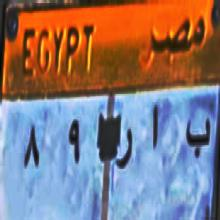8: (21, 119, 40, 175)
9: (66, 113, 82, 173)
alif: (146, 99, 162, 156)
baa: (183, 112, 211, 165)
raa: (115, 126, 135, 178)
